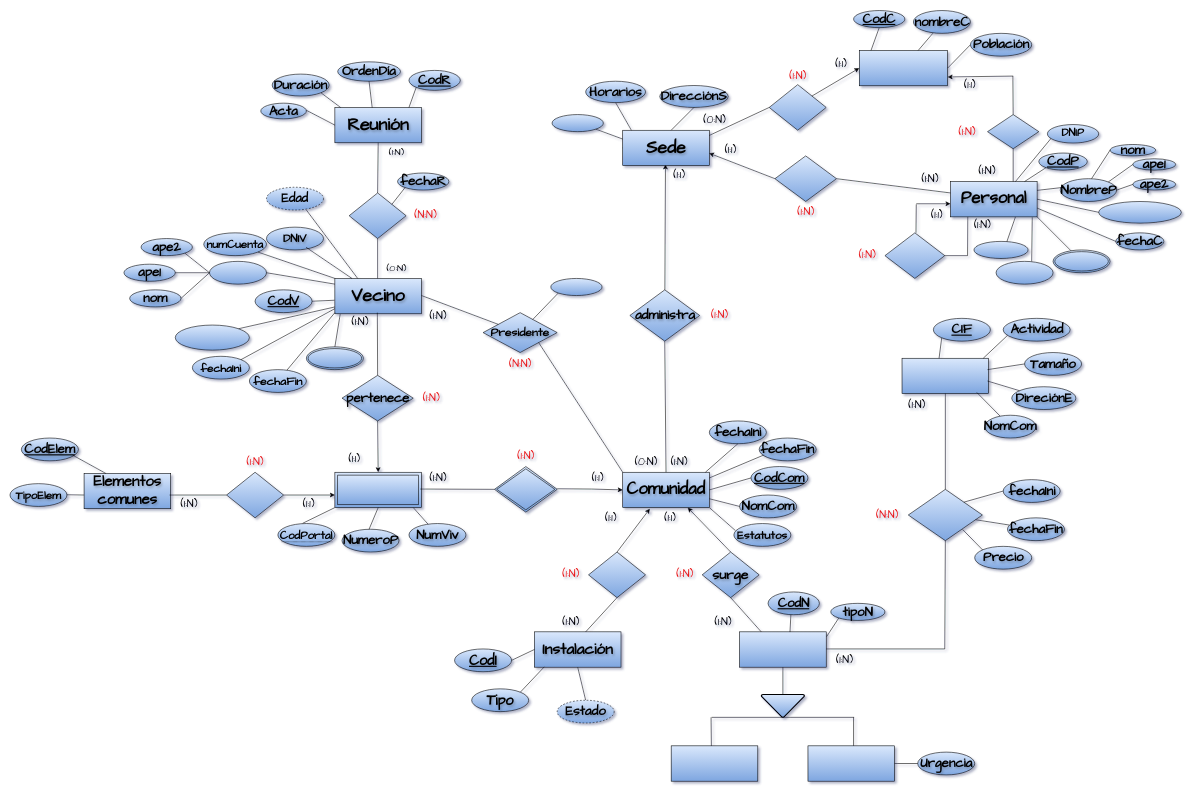
Image size: 1195x795. Some labels were removed from this diagram. Each missing label, with the box of its shape:
asiste: (349, 192, 406, 239)
Avería: (807, 745, 895, 781)
Ciudad: (859, 50, 948, 86)
CodS: (551, 114, 603, 132)
Cotidiana: (671, 745, 758, 781)
dispone: (588, 551, 646, 598)
Email: (973, 241, 1028, 258)
Empresa: (901, 358, 989, 394)
es jefe: (884, 232, 945, 278)
Especialidad: (1098, 201, 1181, 223)
esPropietario: (175, 325, 249, 350)
esta en: (769, 84, 826, 130)
fechaE: (550, 278, 602, 296)
formada: (494, 466, 557, 512)
Necesidad: (739, 631, 826, 667)
nombreV: (209, 261, 266, 284)
Portal: (334, 472, 422, 508)
Salario: (996, 261, 1053, 284)
satisface: (908, 489, 982, 541)
tfnoP: (1053, 249, 1110, 273)
tfnoV: (306, 346, 363, 370)
tiene: (226, 472, 284, 518)
trabaja: (774, 155, 836, 201)
vive en: (987, 114, 1039, 149)
